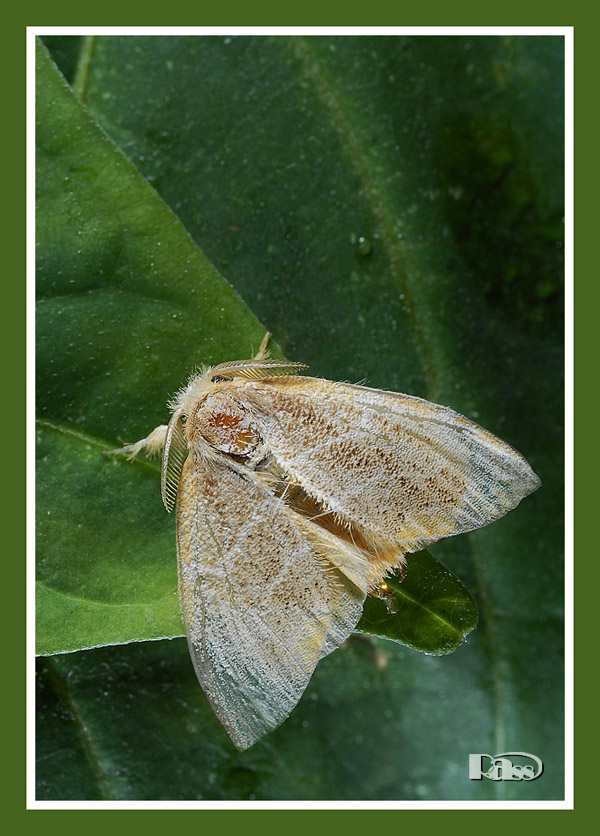feie: (135, 340, 541, 728)
